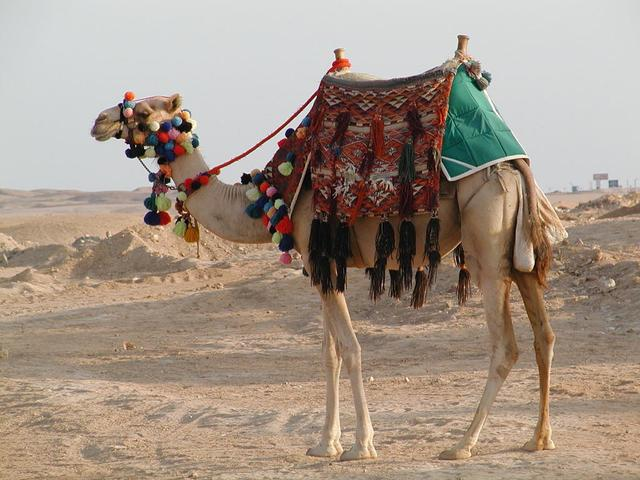camel: (60, 46, 598, 460)
